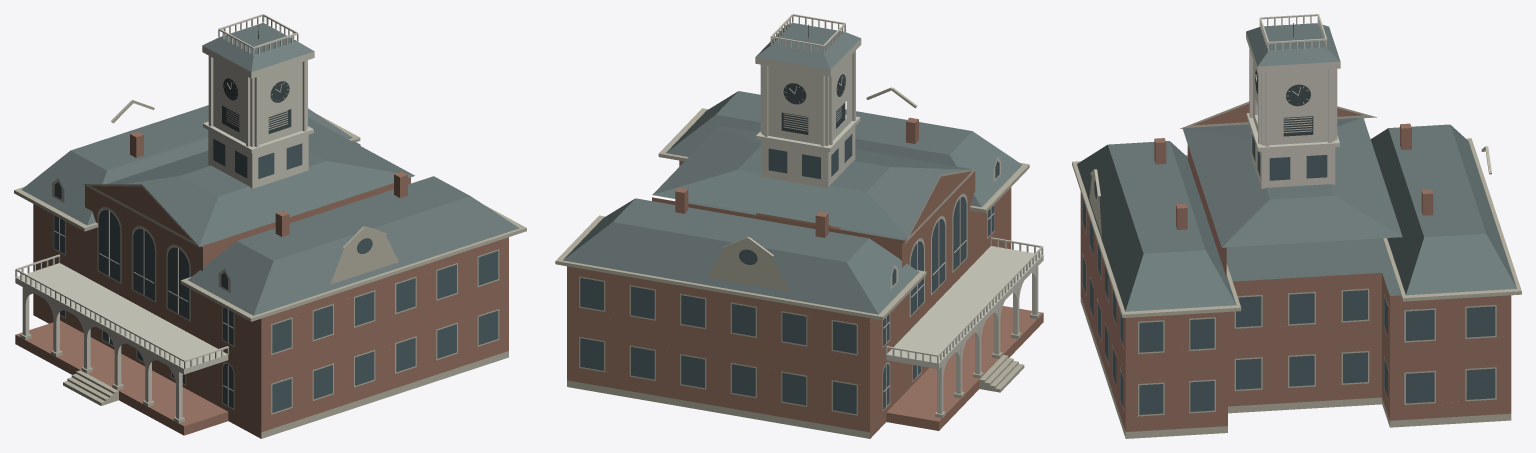
The model's file is walton-historic-courthouse-near.glb.
3 renders of one model, left to right at view 1: azimuth 30°, elevation 25°; view 2: azimuth 150°, elevation 25°; view 3: azimuth 270°, elevation 25°, orthographic. The views are drawn at different scales.
Visible parts, largest first — view 1: walton-historic-courthouse-0-brick, walton-historic-courthouse-0-roof, walton-historic-courthouse-0-trim, walton-historic-courthouse-0-glass, walton-historic-courthouse-0-stone, walton-historic-courthouse-0-clock; view 2: walton-historic-courthouse-0-roof, walton-historic-courthouse-0-brick, walton-historic-courthouse-0-trim, walton-historic-courthouse-0-stone, walton-historic-courthouse-0-glass, walton-historic-courthouse-0-clock; view 3: walton-historic-courthouse-0-roof, walton-historic-courthouse-0-brick, walton-historic-courthouse-0-glass, walton-historic-courthouse-0-stone, walton-historic-courthouse-0-trim, walton-historic-courthouse-0-clock.
Part boxes in pixels (x1,y1,x2,y2): walton-historic-courthouse-0-brick: [15, 131, 508, 438]; walton-historic-courthouse-0-roof: [21, 23, 519, 315]; walton-historic-courthouse-0-trim: [15, 14, 314, 418]; walton-historic-courthouse-0-glass: [54, 139, 498, 412]; walton-historic-courthouse-0-stone: [14, 100, 526, 438]; walton-historic-courthouse-0-clock: [222, 78, 291, 133]; walton-historic-courthouse-0-roof: [563, 23, 1022, 314]; walton-historic-courthouse-0-brick: [567, 117, 1043, 438]; walton-historic-courthouse-0-trim: [755, 14, 1043, 413]; walton-historic-courthouse-0-stone: [555, 87, 1040, 438]; walton-historic-courthouse-0-glass: [580, 134, 999, 414]; walton-historic-courthouse-0-clock: [781, 74, 845, 134]; walton-historic-courthouse-0-roof: [1077, 23, 1516, 311]; walton-historic-courthouse-0-brick: [1080, 104, 1511, 431]; walton-historic-courthouse-0-glass: [1082, 135, 1495, 414]; walton-historic-courthouse-0-stone: [1072, 101, 1521, 438]; walton-historic-courthouse-0-trim: [1246, 14, 1340, 189]; walton-historic-courthouse-0-clock: [1255, 70, 1313, 136].
Bounding box in the file's own units: 35.1 × 27.8 × 34.46.
